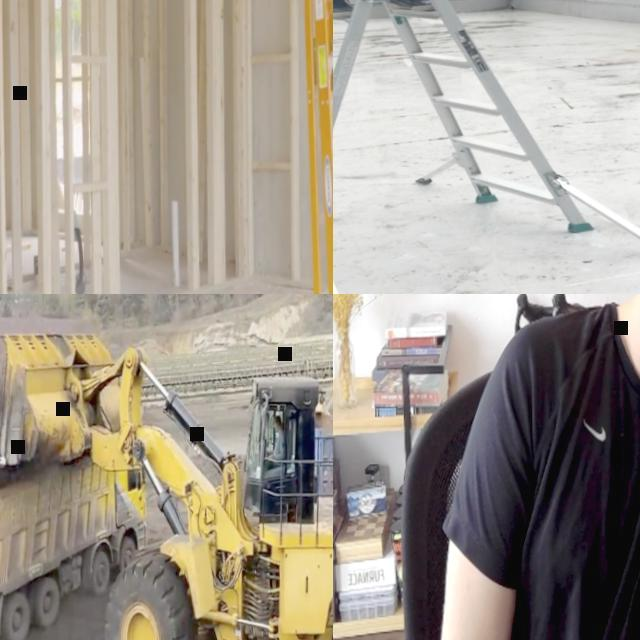machinery: (0, 297, 333, 640), (0, 413, 153, 640), (259, 382, 333, 504)
no_helmet: (276, 413, 284, 424)
no_mask: (276, 425, 280, 432)
no_vest: (513, 300, 640, 640), (276, 432, 286, 454)
person: (430, 294, 640, 640), (266, 412, 287, 466)
